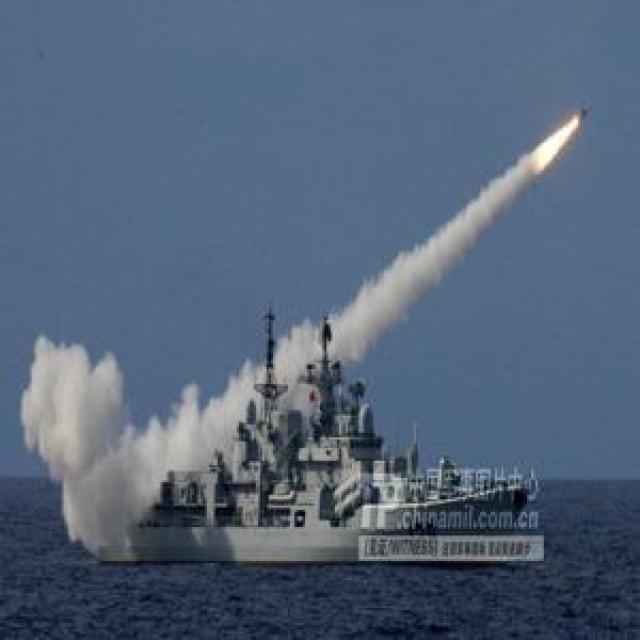navalvessels: (107, 314, 538, 566)
